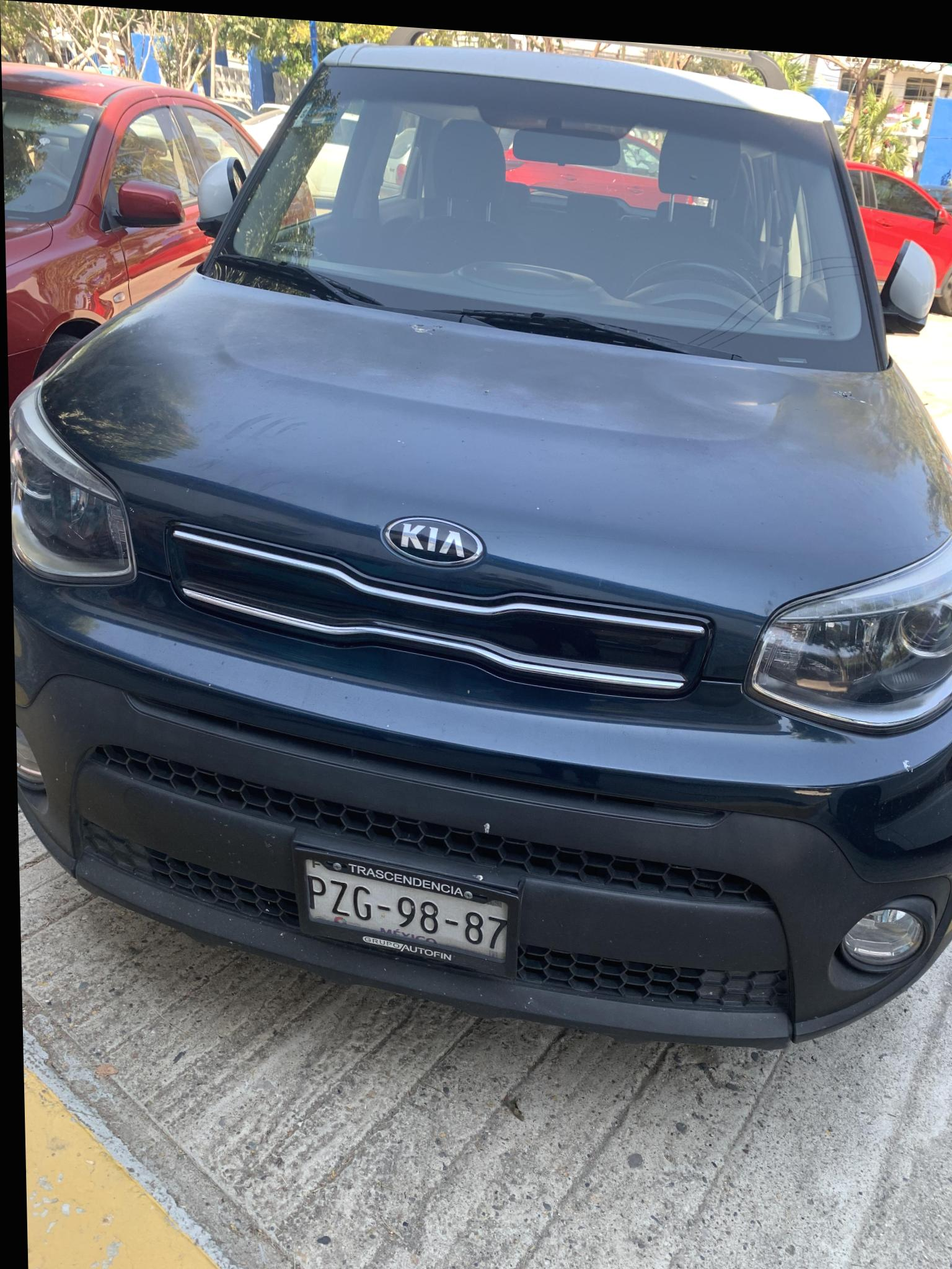License_Plate: (272, 829, 549, 1001)
